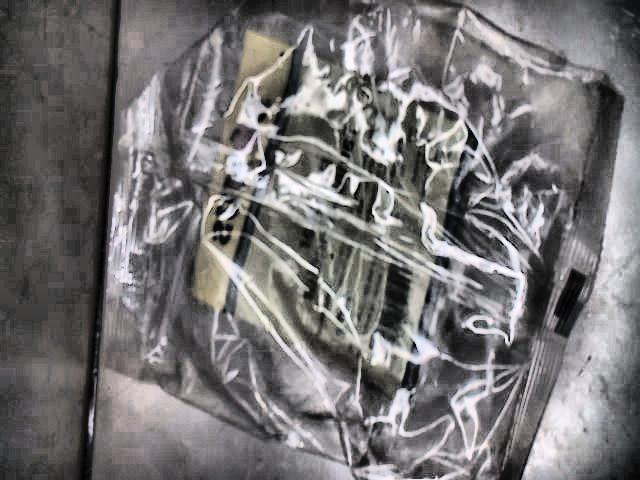Plastic: (92, 0, 625, 480)
